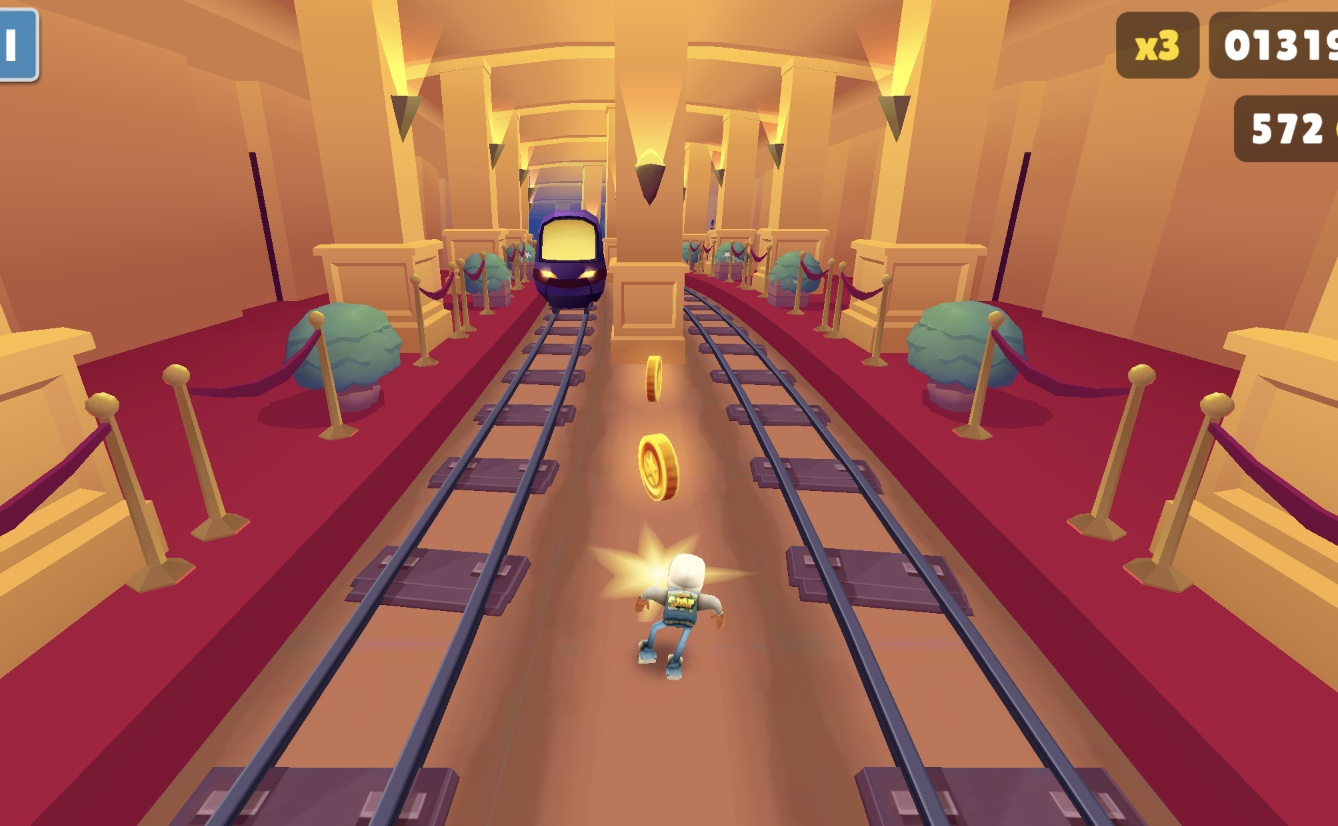pillar: (604, 0, 691, 374)
train: (529, 207, 609, 314)
